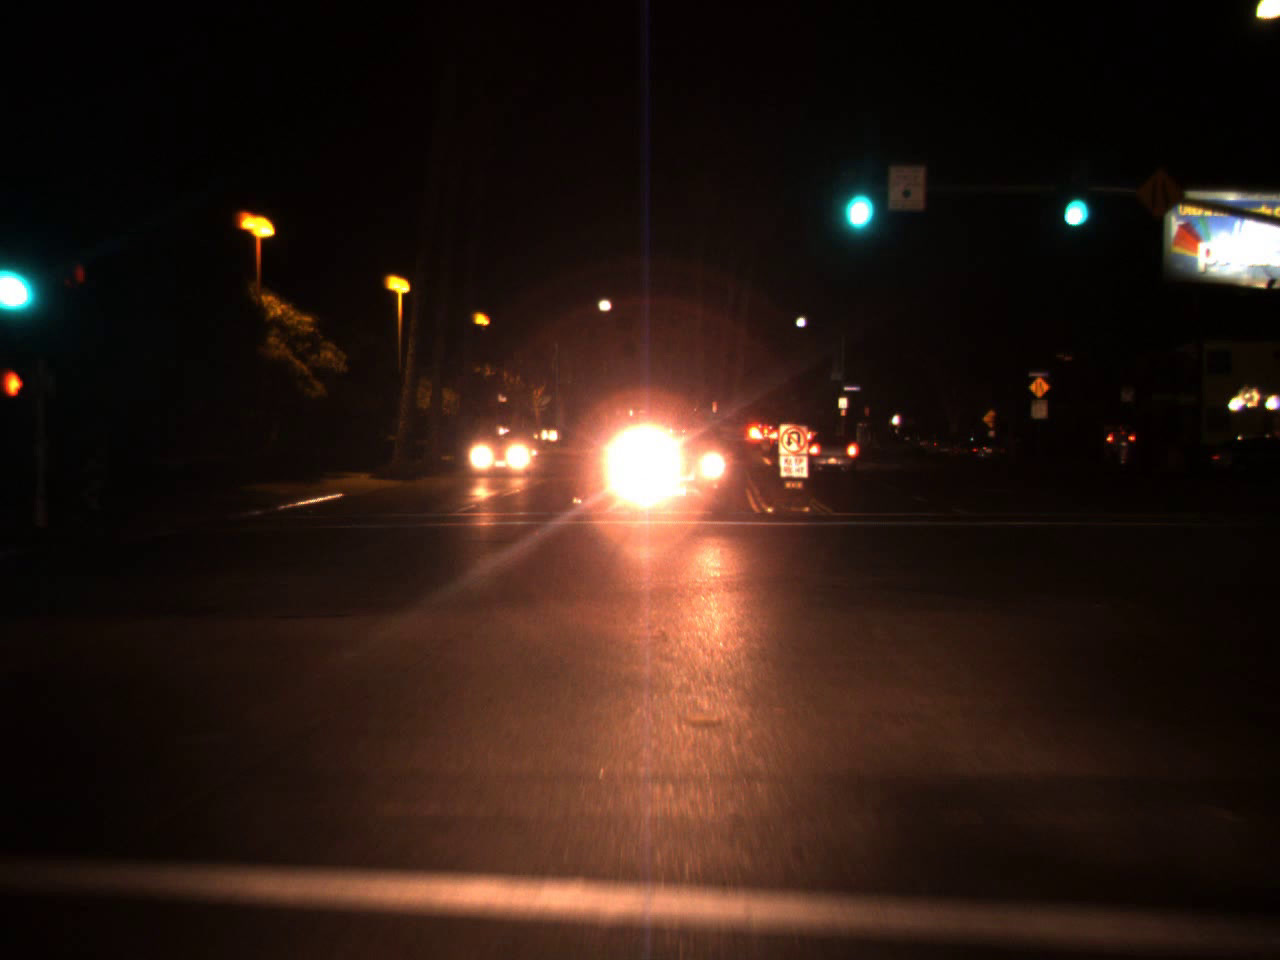go: (832, 154, 878, 241), (0, 236, 35, 320), (1055, 166, 1092, 235)
